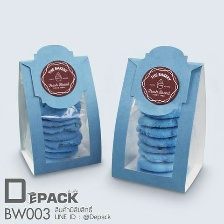snack: (105, 39, 212, 198), (11, 37, 105, 181)
